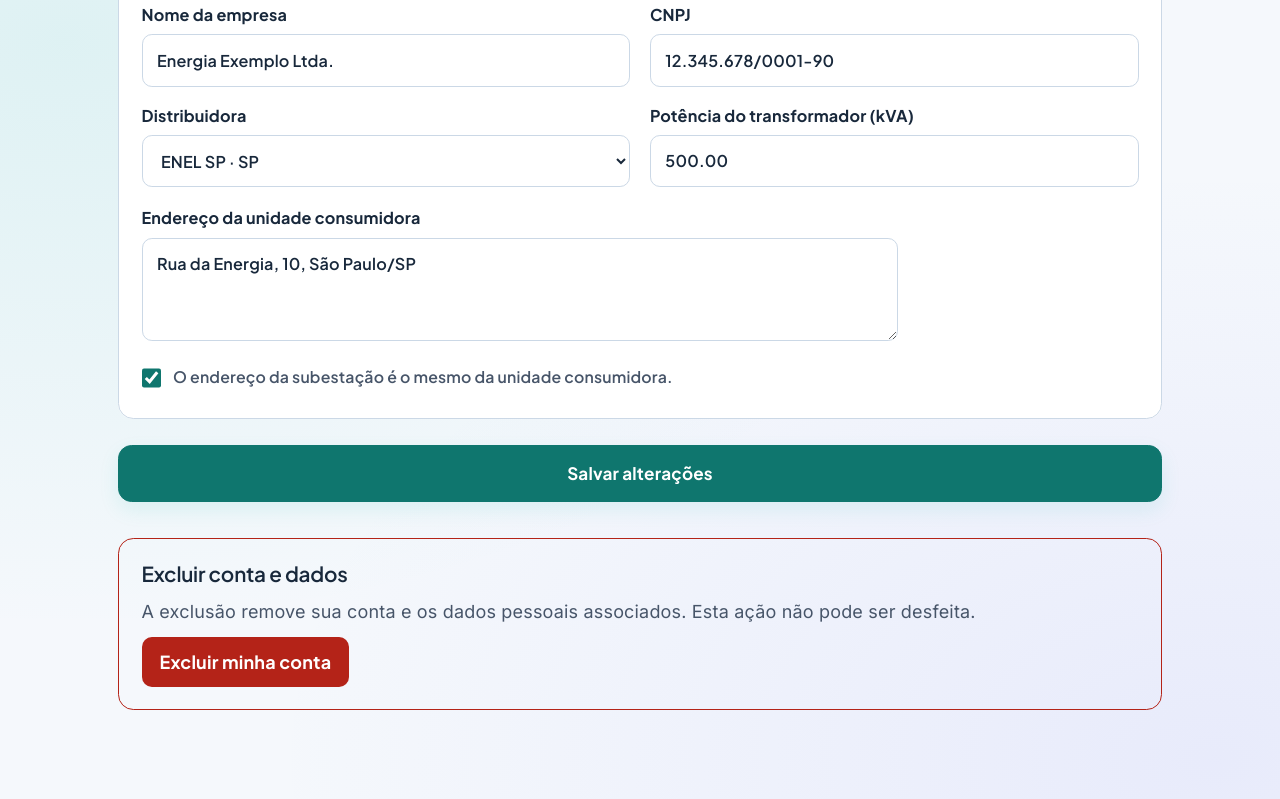
customer profile › shows API validation errors when profile data cannot be saved
The image size is (1280, 799).
(page scrolled)
Click the button "Salvar alterações".
click(640, 473)  # box [118, 444, 1162, 502]
(page scrolled)
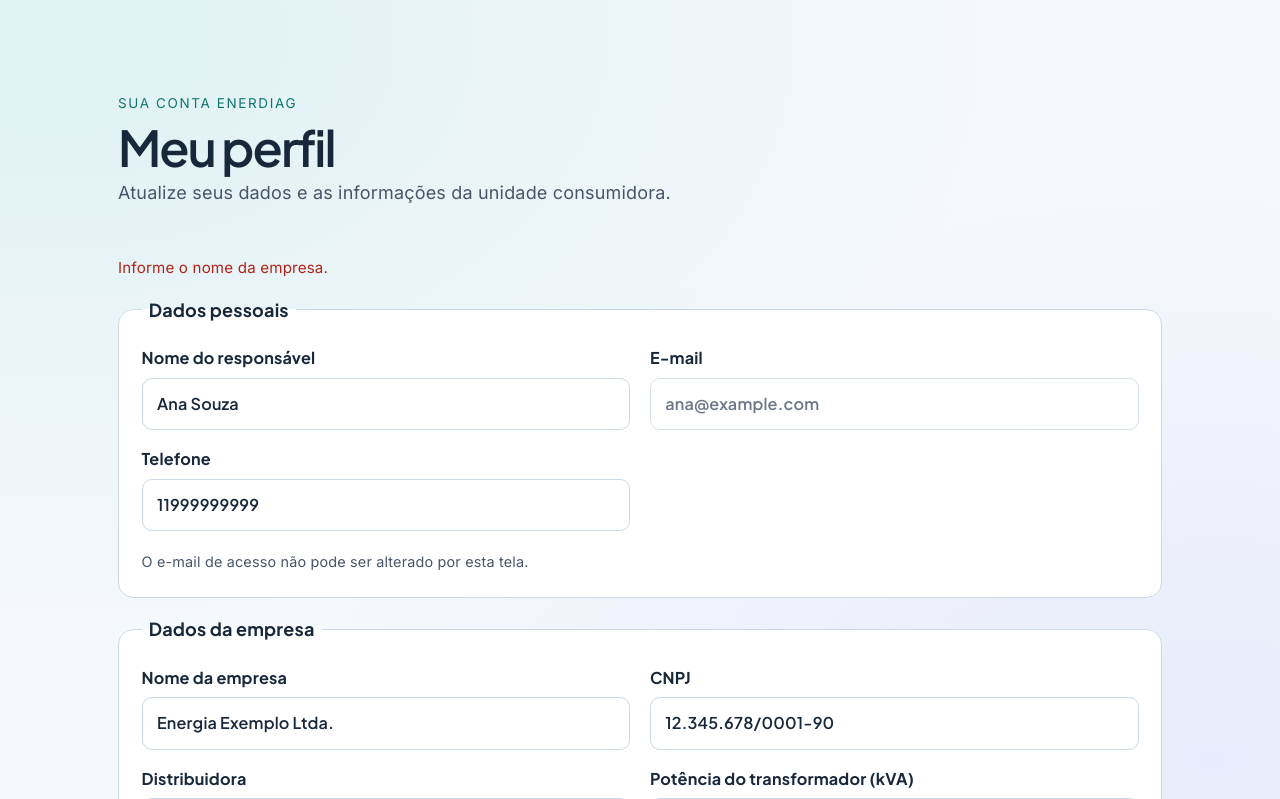
Expected: the message reads "Informe o nome da empresa.", [118, 258, 328, 277]
